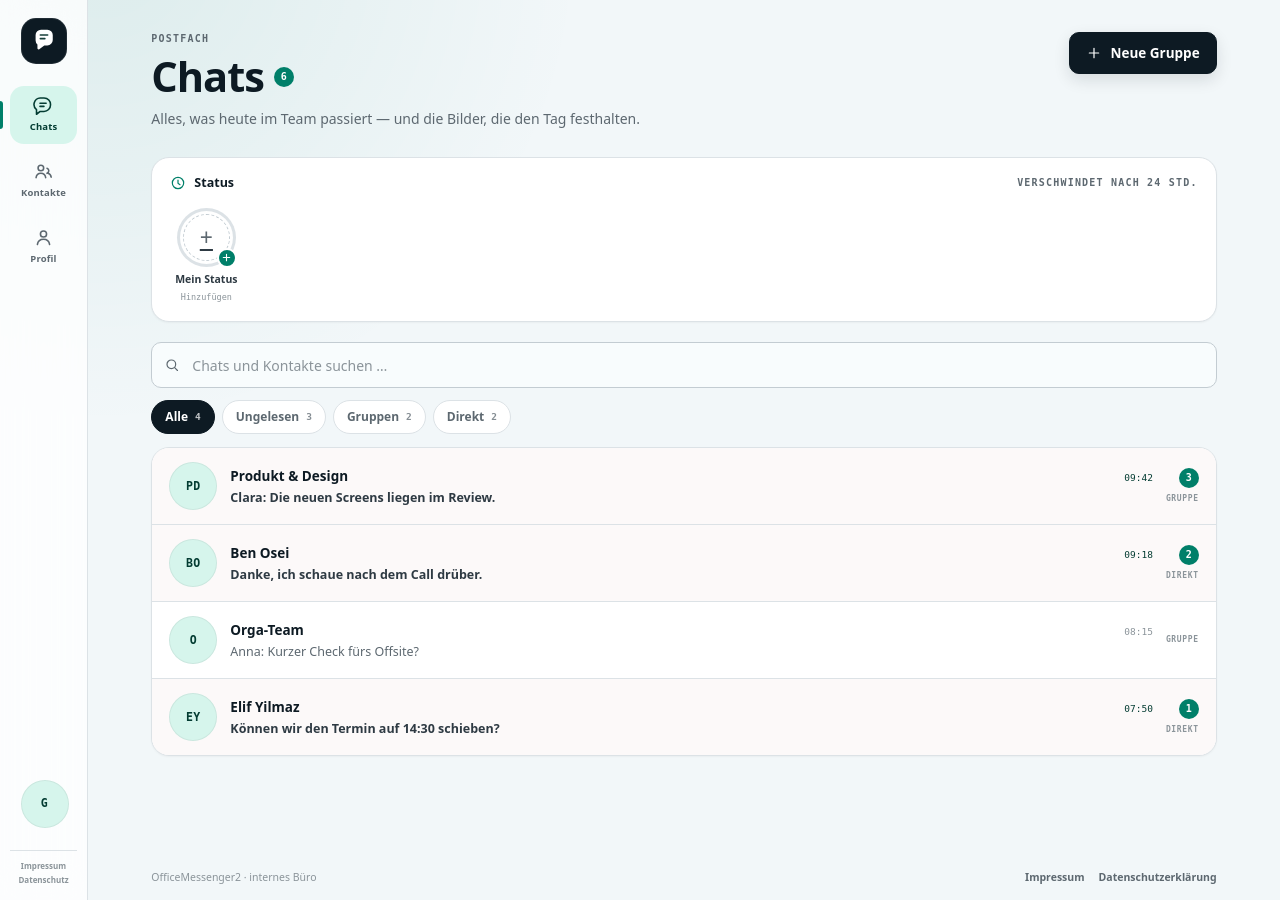
ChatListPage › refetches the list with the selected filter when a chip is clicked
expect the text "Produkt & Design" is shown: met, box [230, 466, 348, 486]
Click the button "Gruppen 2".
click(379, 417)  # box [333, 400, 426, 434]
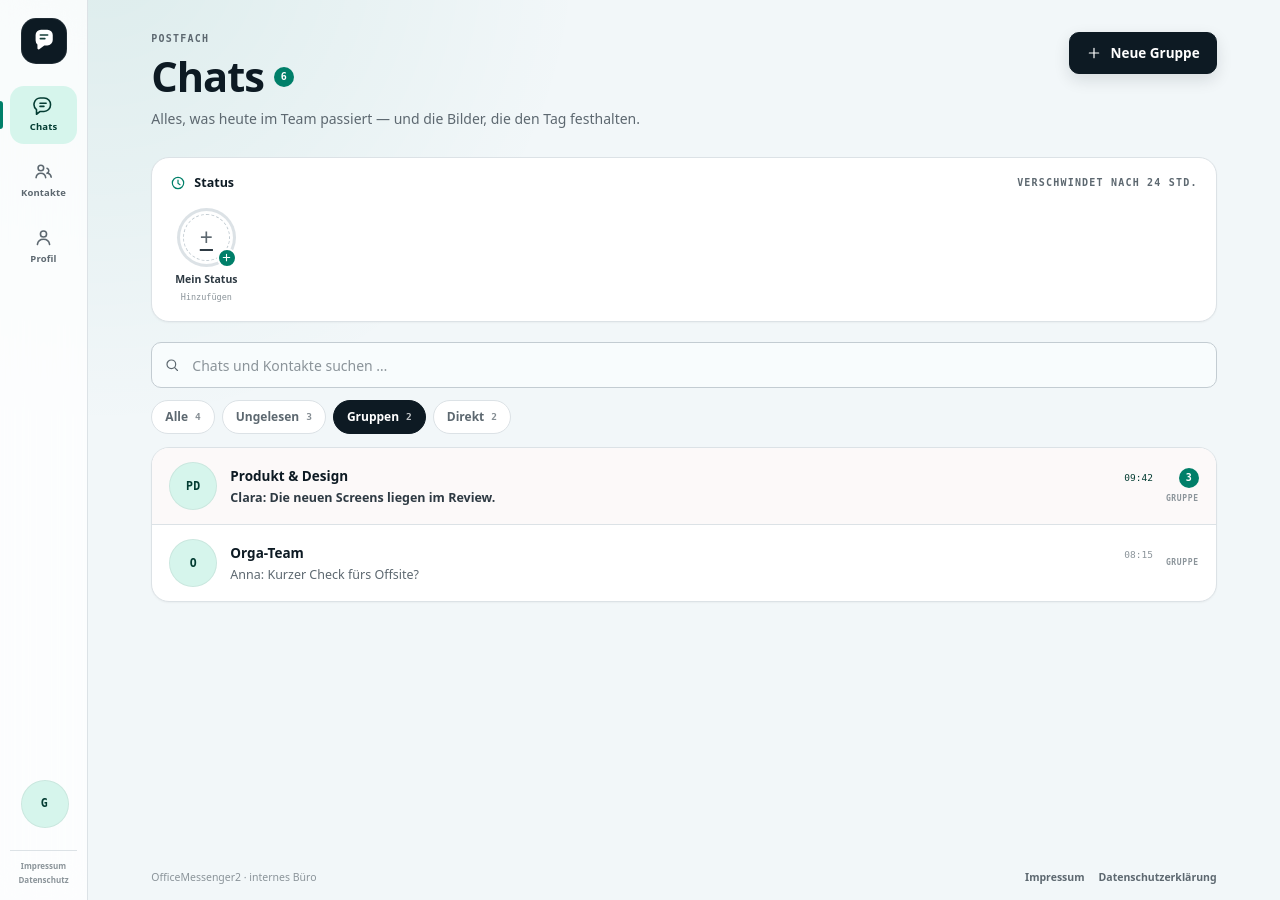
expect the text "Orga-Team" is shown: met, box [230, 543, 304, 563]
expect the link "Ben Osei" is gone: met
